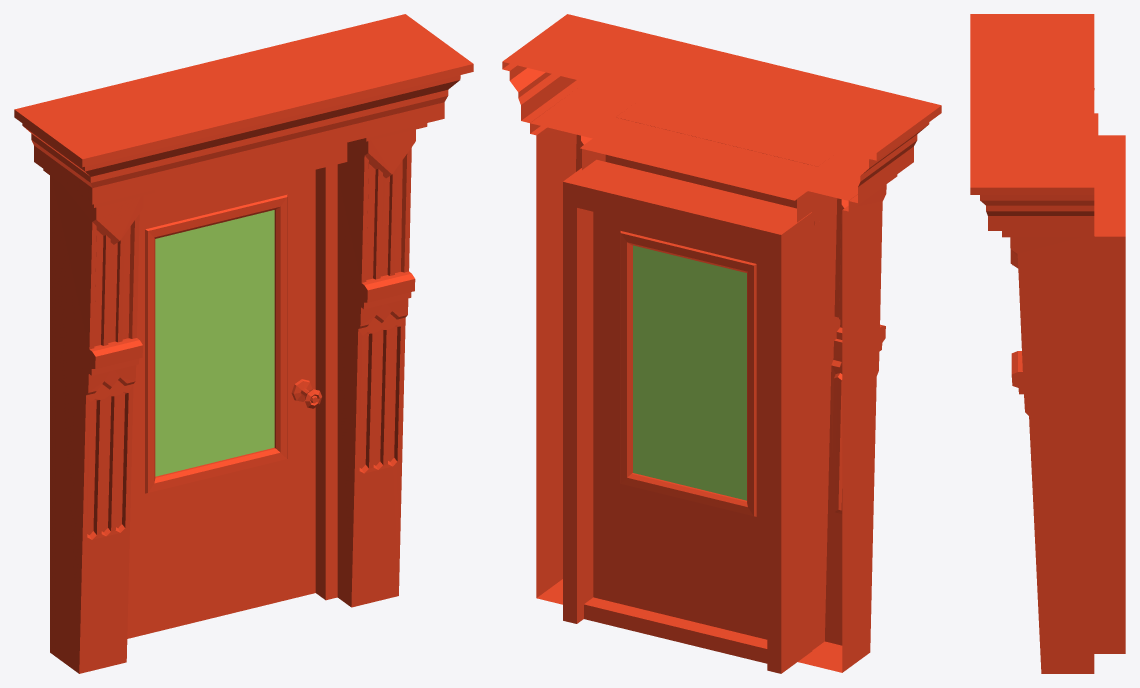
File: SM_Door_Single_A_Regular_City.fbx
3 renders of one model, left to right at view 1: azimuth 30°, elevation 25°; view 2: azimuth 150°, elevation 25°; view 3: azimuth 270°, elevation 25°, orthographic. The views are drawn at different scales.
Visible parts, largest first — view 1: SM_Door_Single_A_Regular_City_Frame, SM_Door_Single_A_Regular_City_Door; view 2: SM_Door_Single_A_Regular_City_Frame, SM_Door_Single_A_Regular_City_Door; view 3: SM_Door_Single_A_Regular_City_Frame.
Boxes of the visible parts, box(x1,y1,x2,y2) form: SM_Door_Single_A_Regular_City_Frame: box(14, 14, 473, 673); SM_Door_Single_A_Regular_City_Door: box(127, 169, 321, 638); SM_Door_Single_A_Regular_City_Frame: box(502, 14, 941, 673); SM_Door_Single_A_Regular_City_Door: box(593, 212, 767, 639); SM_Door_Single_A_Regular_City_Frame: box(970, 14, 1125, 673).
Bounding box in the file's own units: 1.97 × 2.65 × 0.7423.
